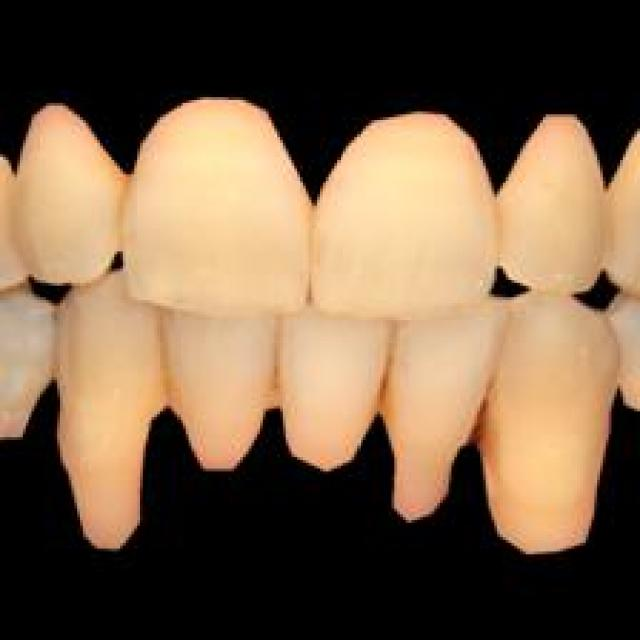cavity: (460, 383, 503, 448), (103, 171, 134, 246), (151, 357, 186, 403), (260, 363, 289, 406), (374, 363, 394, 414)
tooth: (132, 91, 308, 306), (317, 108, 494, 312), (477, 303, 600, 548), (63, 286, 151, 546), (494, 103, 606, 294), (388, 320, 488, 520), (14, 94, 120, 280), (157, 306, 272, 468), (277, 308, 386, 472), (0, 289, 49, 437), (600, 120, 637, 297)
